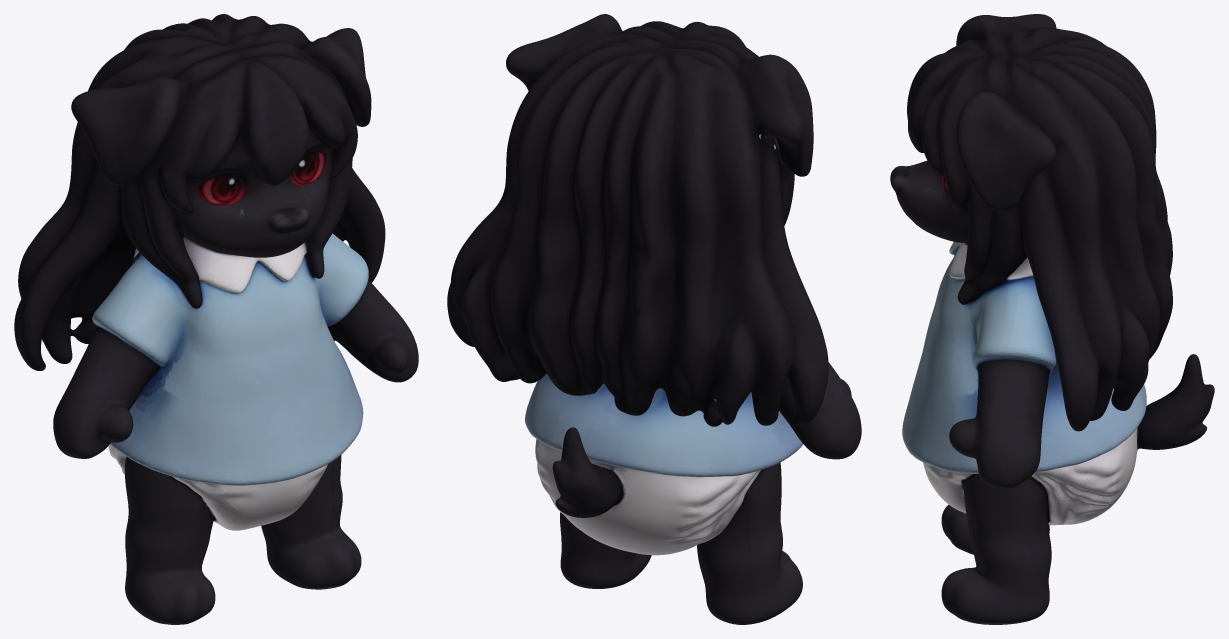
Rendered from kris.glb.
The picture shows the model from 3 angles, left to right: view 1: azimuth 30°, elevation 25°; view 2: azimuth 150°, elevation 25°; view 3: azimuth 270°, elevation 25°; orthographic projection. The views are drawn at different scales.
Visible parts, largest first — view 1: temp_mesh.ply; view 2: temp_mesh.ply; view 3: temp_mesh.ply.
Part boxes in pixels (x1,y1,x2,y2): temp_mesh.ply: [14, 14, 418, 624]; temp_mesh.ply: [447, 14, 861, 624]; temp_mesh.ply: [890, 14, 1214, 624].
Bounding box in the file's own units: 1.37 × 1.95 × 1.08.
Materials: 1 (1 with a texture image).
